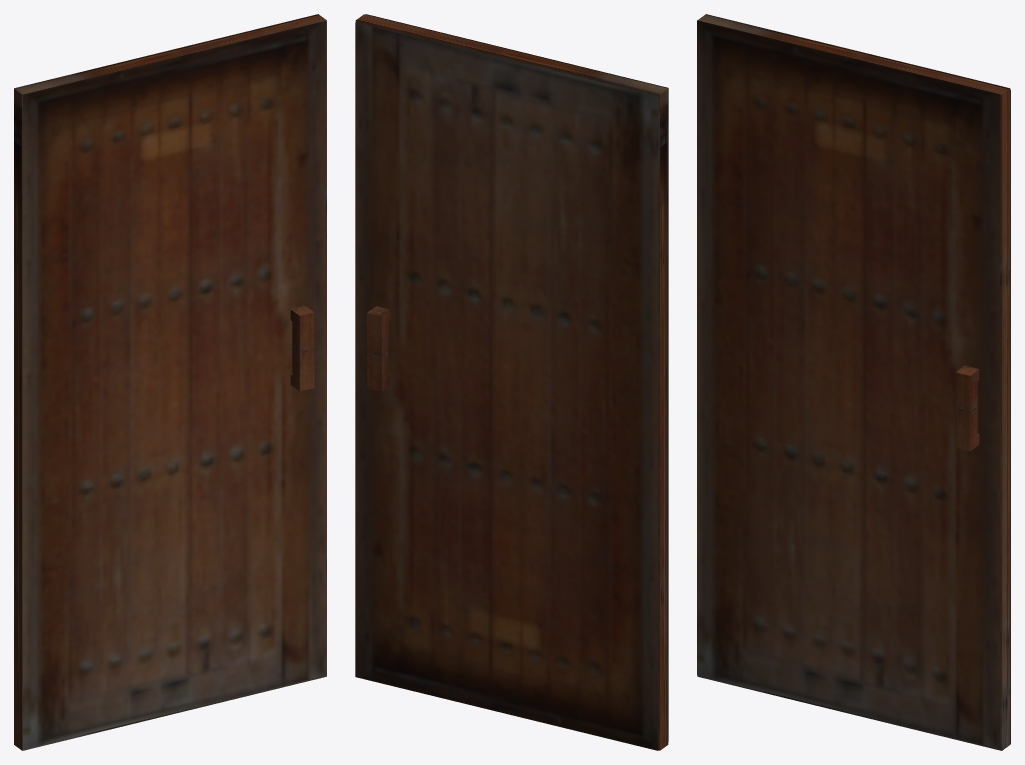
The model's file is build1adoor.gltf.
3 renders of one model, left to right at view 1: azimuth 30°, elevation 25°; view 2: azimuth 150°, elevation 25°; view 3: azimuth 330°, elevation 25°, orthographic.
Visible parts, largest first — view 1: build1adoor; view 2: build1adoor; view 3: build1adoor.
Part boxes in pixels (x1,y1,x2,y2): build1adoor: (14, 14, 326, 750); build1adoor: (355, 14, 668, 750); build1adoor: (697, 14, 1010, 750).
Bounding box in the file's own units: 1.19 × 2.45 × 0.1869.
2 materials, 2 textured.
